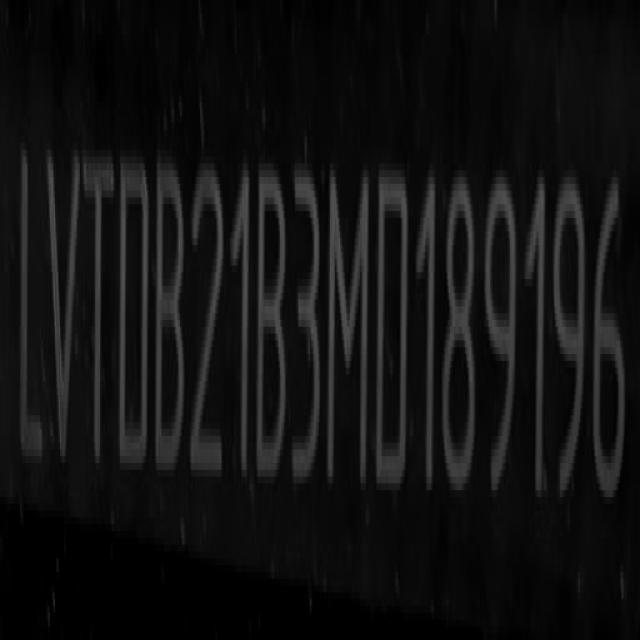1: (525, 173, 548, 515), (230, 157, 252, 493), (417, 161, 437, 503)
2: (193, 157, 230, 493)
3: (294, 155, 324, 501)
6: (593, 171, 630, 516)
8: (444, 166, 481, 505)
9: (484, 170, 521, 514), (552, 174, 589, 514)
B: (256, 154, 290, 493), (157, 160, 190, 485)
D: (378, 153, 416, 501), (116, 150, 153, 483)
L: (16, 142, 46, 479)
M: (327, 156, 373, 502)
T: (84, 146, 114, 481)
V: (42, 139, 81, 480)
